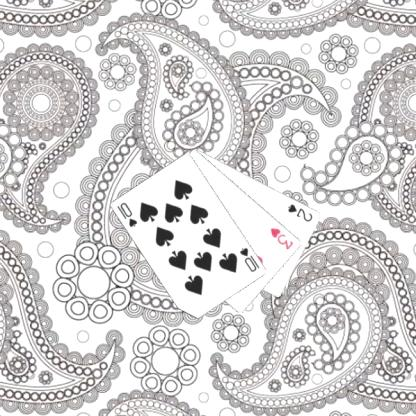10S: (114, 199, 139, 229), (237, 244, 261, 274)
2S: (285, 201, 314, 223)
3H: (268, 225, 295, 251)
